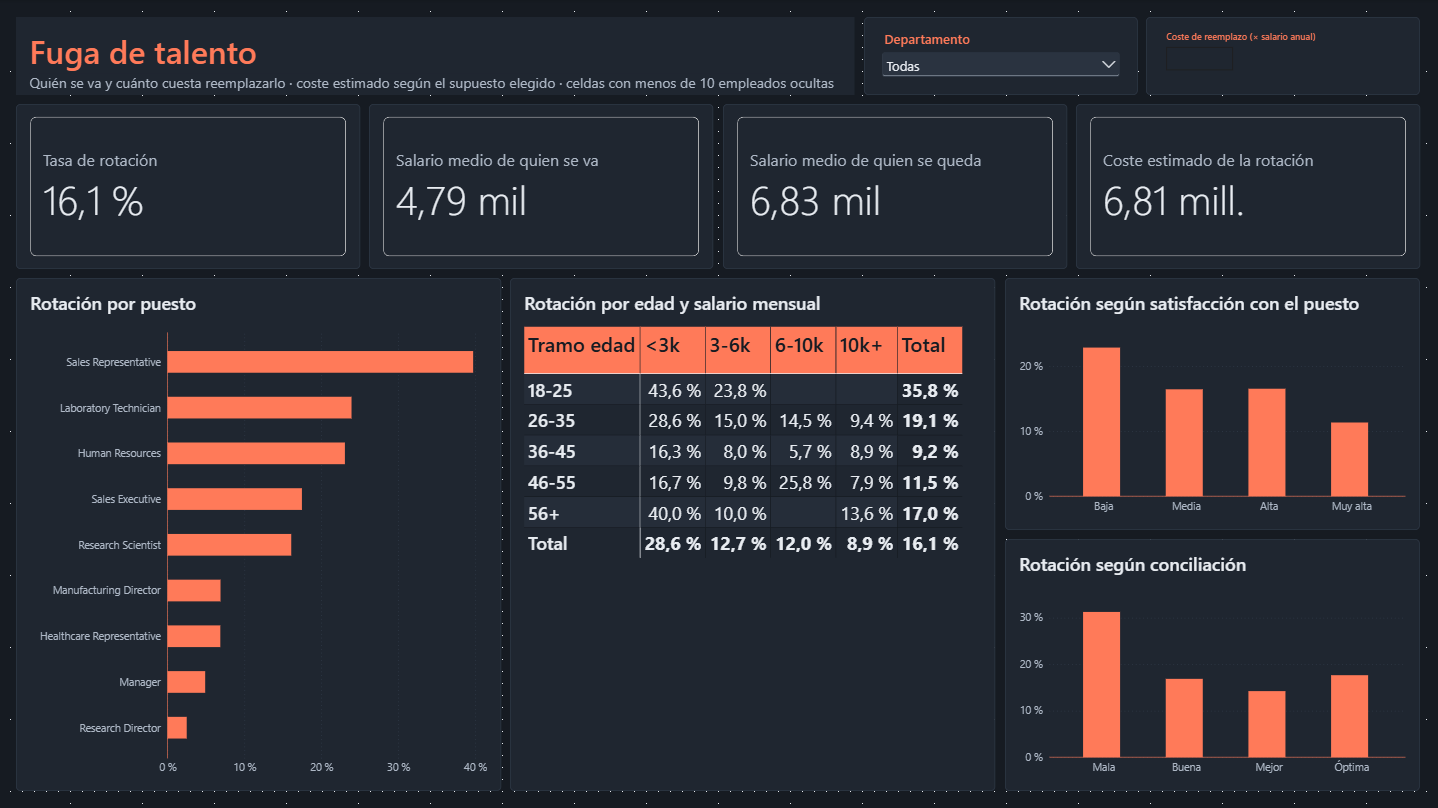

Layout of this report page (visuals, bound fields, positions):
{"tool":"powerbi","page":{"name":"Fuga Talento","canvas":[1920,1080],"ordinal":1},"visuals":[{"type":"slicer","fields":{"Values":["fEmpleados.Department"]},"box":[1154,24,365,104],"z":0},{"type":"slicer","fields":{"Values":["Coste reemplazo.Coste reemplazo"]},"box":[1531,24,365,104],"z":1},{"type":"cardVisual","fields":{"Data":["Medidas.Tasa Rotación"]},"box":[24,140,459,220],"z":2},{"type":"cardVisual","fields":{"Data":["Medidas.Salario Medio Bajas"]},"box":[495,140,459,220],"z":3},{"type":"cardVisual","fields":{"Data":["Medidas.Salario Medio Permanencias"]},"box":[966,140,459,220],"z":4},{"type":"cardVisual","fields":{"Data":["Medidas.Coste Rotación Estimado"]},"box":[1437,140,459,220],"z":5},{"type":"barChart","title":"\tRotación por puesto","fields":{"Category":["fEmpleados.JobRole"],"Y":["Medidas.Tasa Rotación"]},"box":[24,372,647,684],"z":6},{"type":"columnChart","title":"Rotación según satisfacción con el puesto","fields":{"Category":["fEmpleados.Satisfacción puesto"],"Y":["Medidas.Tasa Rotación"]},"box":[1343,372,553,336],"z":7},{"type":"columnChart","title":"Rotación según conciliación","fields":{"Category":["fEmpleados.Conciliación"],"Y":["Medidas.Tasa Rotación"]},"box":[1343,720,553,336],"z":8},{"type":"pivotTable","title":"\tRotación por edad y salario mensual","fields":{"Columns":["fEmpleados.Tramo salario"],"Rows":["fEmpleados.Tramo edad"],"Values":["Medidas.Tasa Rotación (n≥10)"]},"box":[683,372,647,684],"z":9},{"type":"textbox","title":"Fuga de talento","box":[24,24,1118,104],"z":10}]}

Visuals, with their boxes in screenshot pixels (x1, y1, x2, y2), scaled from the page's 1920x1080 canvas onto the 1438x808 screenshot:
slicer - fEmpleados.Department: x1=864 y1=18 x2=1138 y2=96
slicer - Coste reemplazo.Coste reemplazo: x1=1147 y1=18 x2=1420 y2=96
cardVisual - Medidas.Tasa Rotación: x1=18 y1=105 x2=362 y2=269
cardVisual - Medidas.Salario Medio Bajas: x1=371 y1=105 x2=715 y2=269
cardVisual - Medidas.Salario Medio Permanencias: x1=723 y1=105 x2=1067 y2=269
cardVisual - Medidas.Coste Rotación Estimado: x1=1076 y1=105 x2=1420 y2=269
"	Rotación por puesto" barChart: x1=18 y1=278 x2=503 y2=790
"Rotación según satisfacción con el puesto" columnChart: x1=1006 y1=278 x2=1420 y2=530
"Rotación según conciliación" columnChart: x1=1006 y1=539 x2=1420 y2=790
"	Rotación por edad y salario mensual" pivotTable: x1=512 y1=278 x2=996 y2=790
"Fuga de talento" textbox: x1=18 y1=18 x2=855 y2=96
